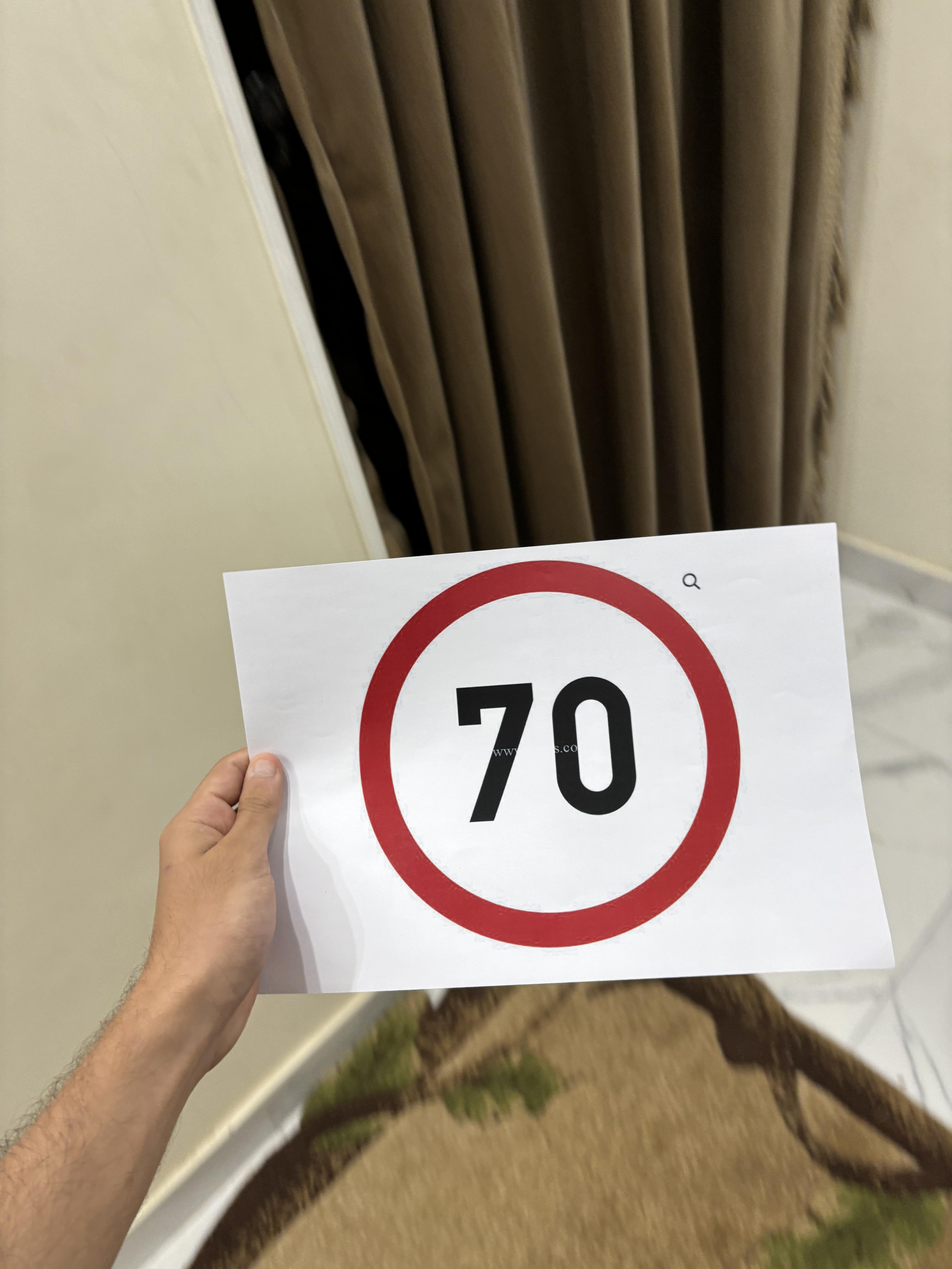70-Speed: (358, 556, 749, 952)
